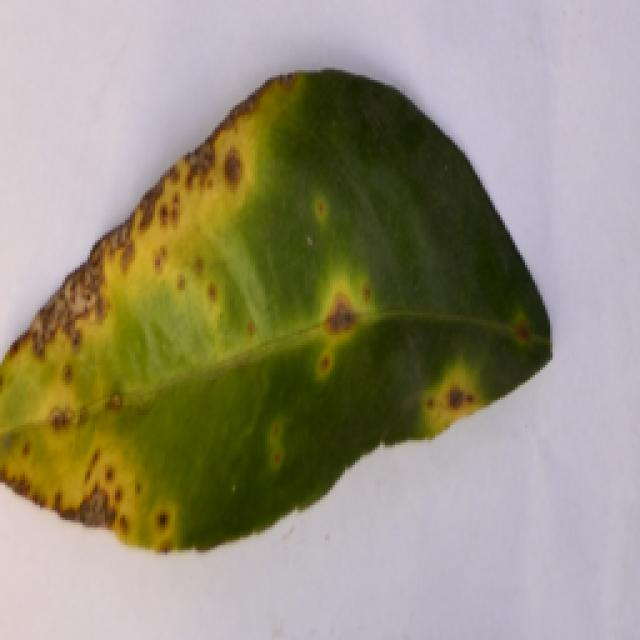canker: (0, 69, 553, 573)
